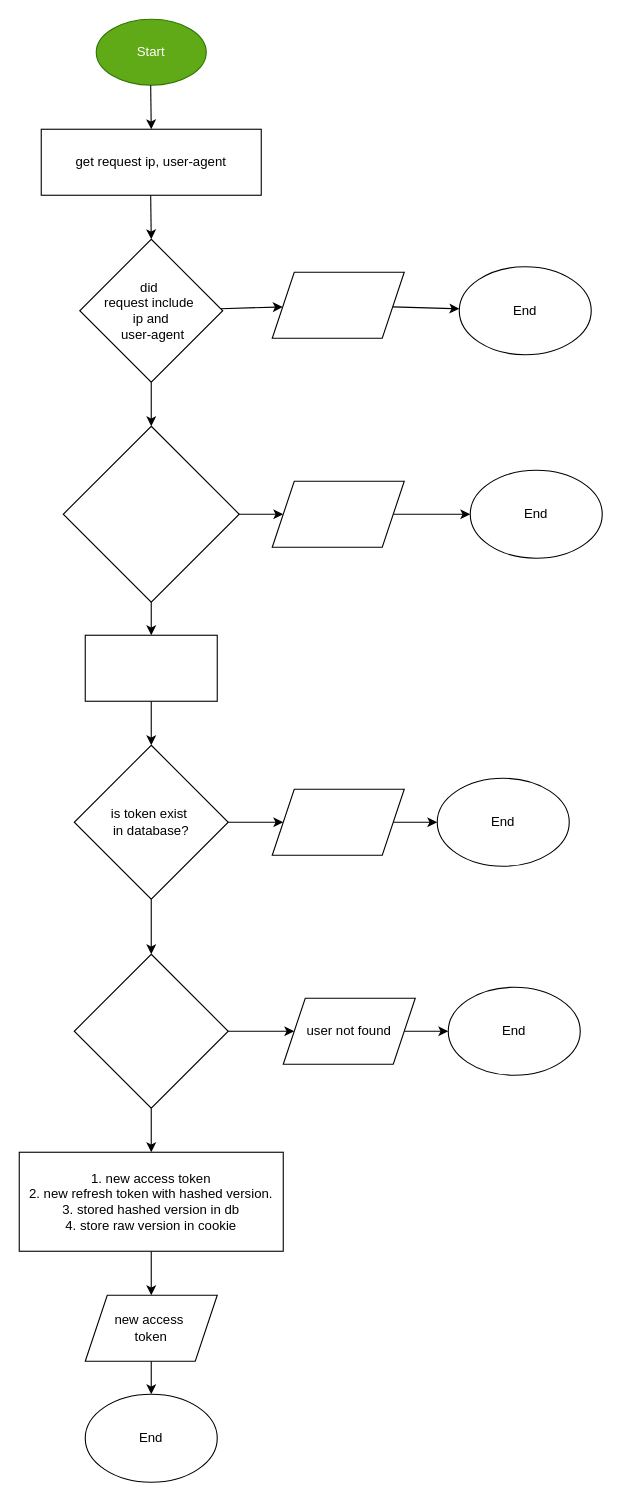
Some shapes in this 622 by 1502 pixel diagram are drawn without their labels. Here are the shapes that lost their labels. From the top down, the centre of each, then its label:
At (337,304): "invalid request".
At (150,513): "Does req contain refresh token cookie".
At (337,513): "No ref token included".
At (150,667): "verify token".
At (337,821): "token not found".
At (150,1030): "is there a user owned this token".
